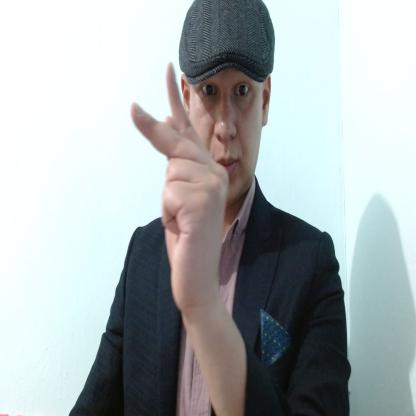P: (131, 57, 229, 311)
